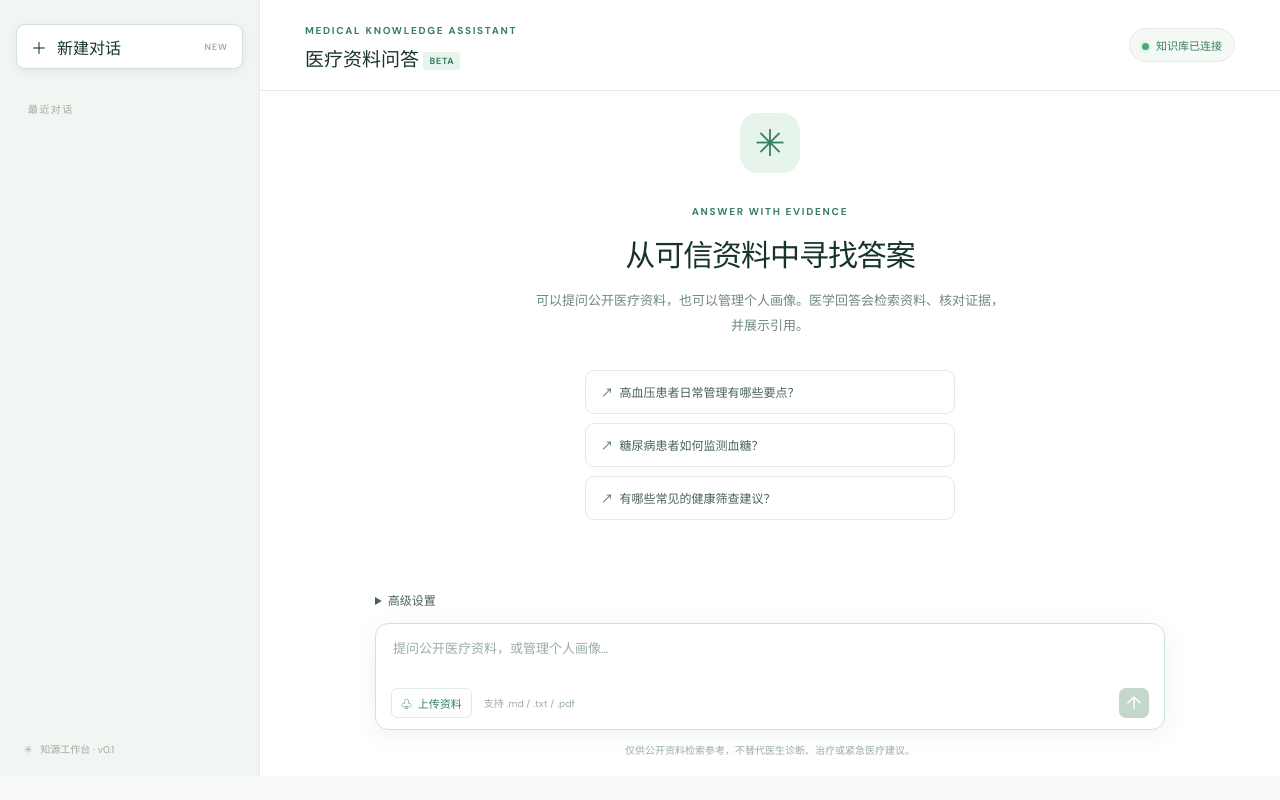
it: stops after a finite polling budget without falsely reporting saved
This screenshot has width=1280, height=800.
Type "随访问题" into the text box named "输入医疗资料问题". click: (770, 660)
box: x1=391 y1=637 x2=1149 y2=683
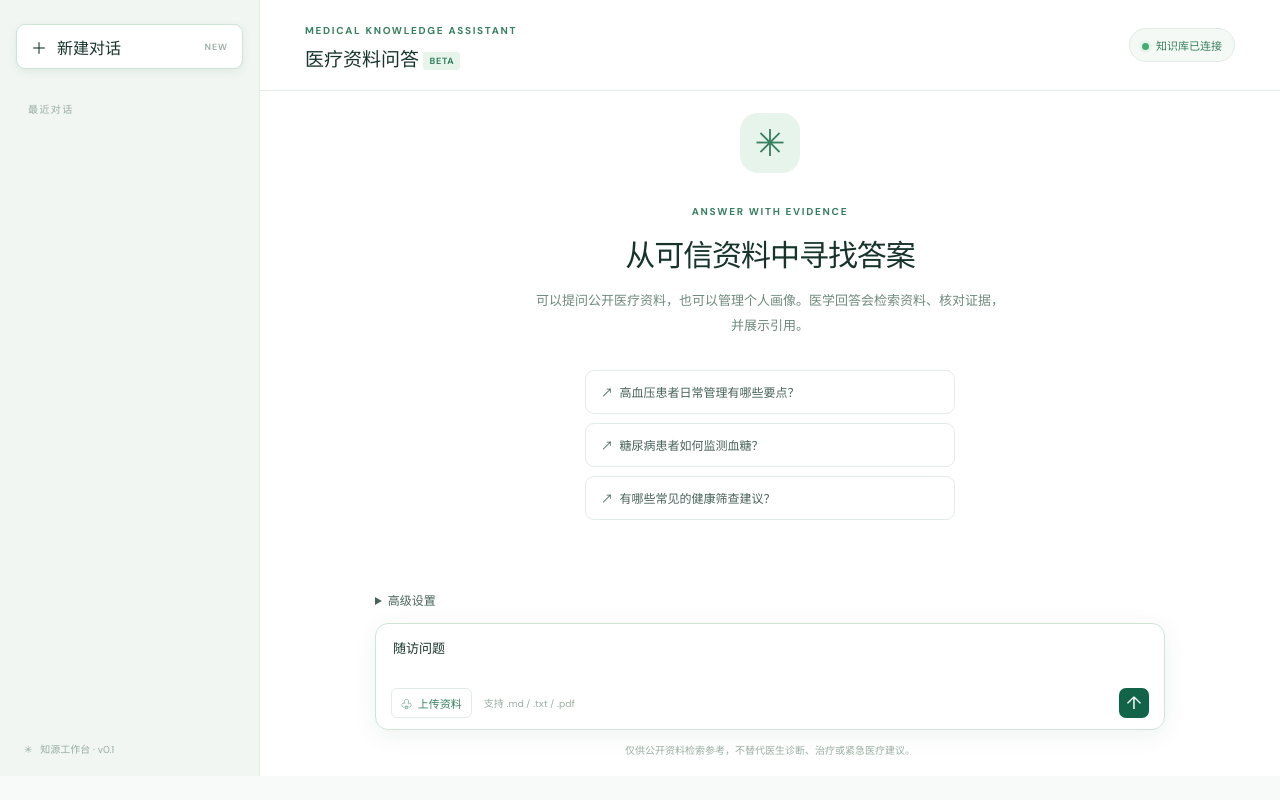
Click the button named "发送问题". click: (1134, 703)
box: x1=1119 y1=688 x2=1149 y2=718
Wait 60000 ms
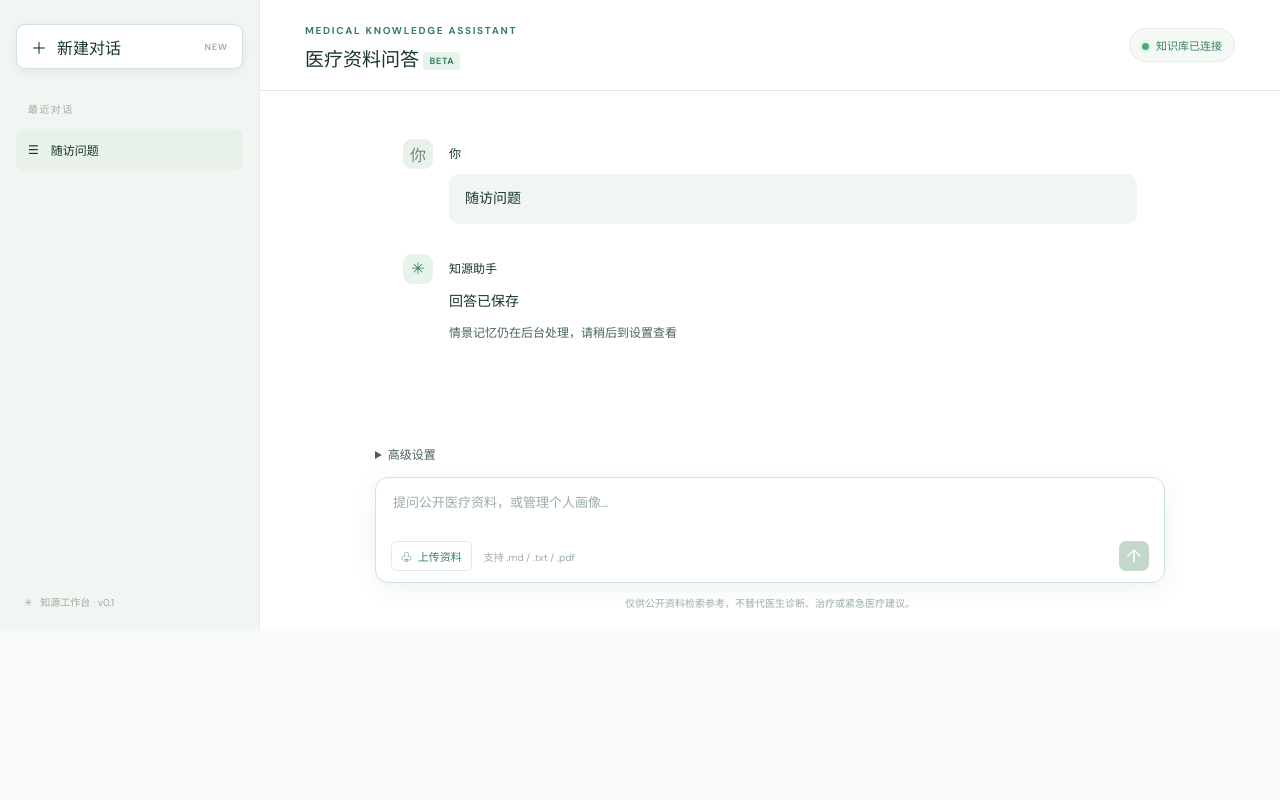
Now the text "回答已保存" is shown, box x1=449 y1=292 x2=519 y2=310
Now the text "情景记忆仍在后台处理，请稍后到设置查看" is shown, box x1=449 y1=325 x2=677 y2=341
